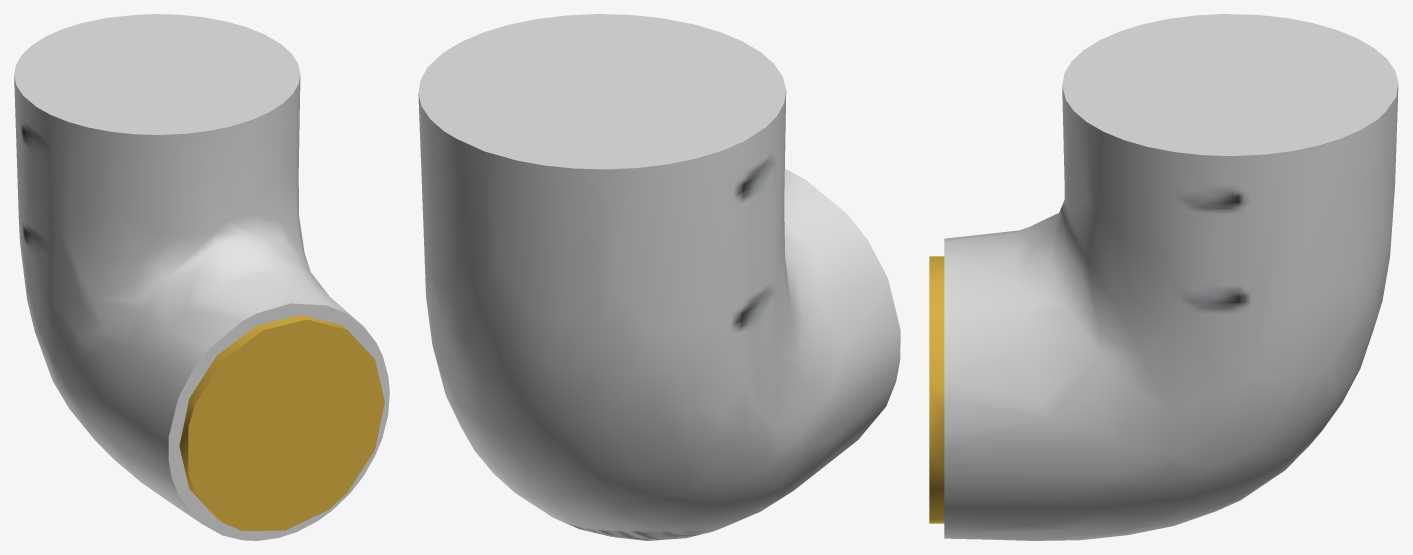
File: link_elbow.glb
The picture shows the model from 3 angles, left to right: view 1: azimuth 30°, elevation 25°; view 2: azimuth 150°, elevation 25°; view 3: azimuth 270°, elevation 25°; orthographic projection. The views are drawn at different scales.
Visible parts, largest first — view 1: link_elbow.3obj; view 2: link_elbow.3obj; view 3: link_elbow.3obj.
Boxes of the visible parts, box(x1,y1,x2,y2) form: link_elbow.3obj: box(14, 14, 389, 540); link_elbow.3obj: box(418, 14, 900, 540); link_elbow.3obj: box(929, 14, 1398, 540).
Size of the model in its own units: 0.1015 by 0.147 by 0.1415.
1 material, 1 textured.
